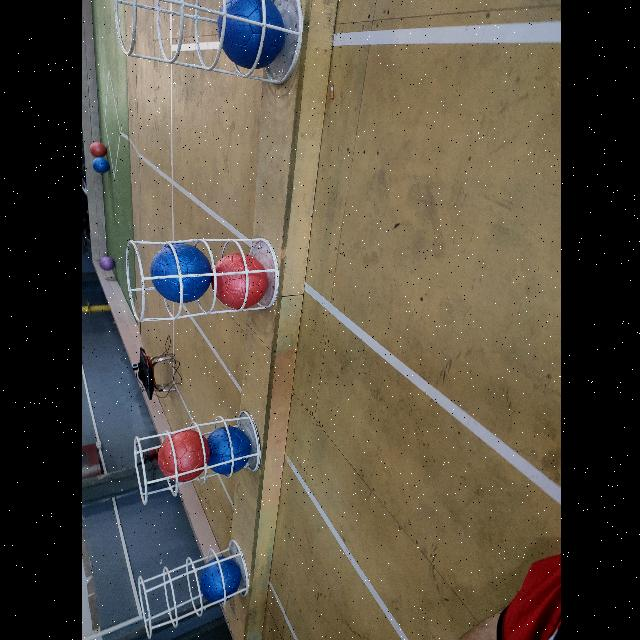B: (215, 0, 283, 70), (148, 242, 210, 304), (206, 425, 250, 475), (197, 557, 240, 605), (90, 157, 108, 173)
R: (211, 254, 265, 310), (154, 430, 208, 482), (88, 142, 104, 156)
